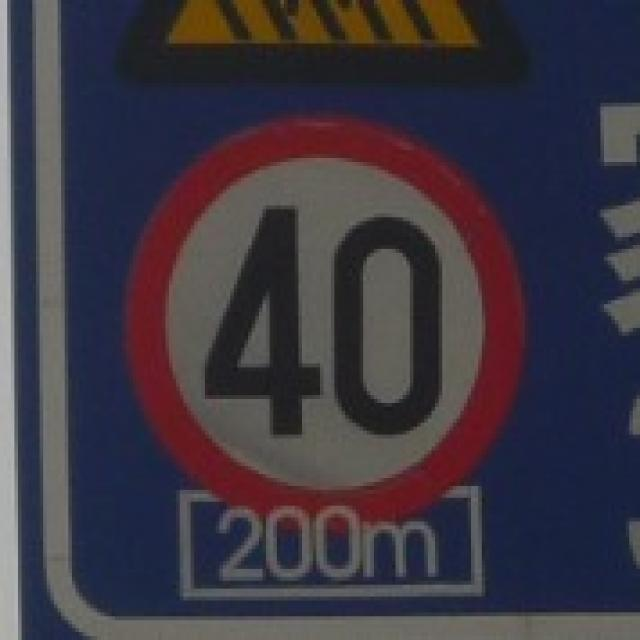Speed Limit -40-: (200, 197, 448, 445)
